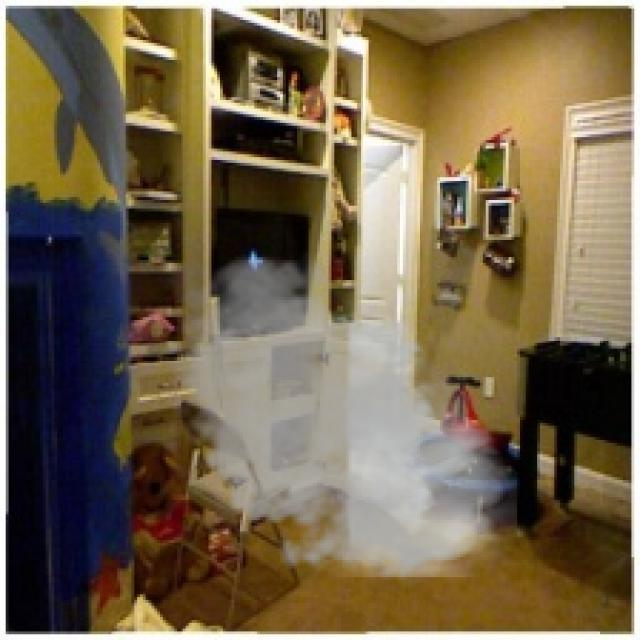Smoke: (160, 248, 517, 592)
